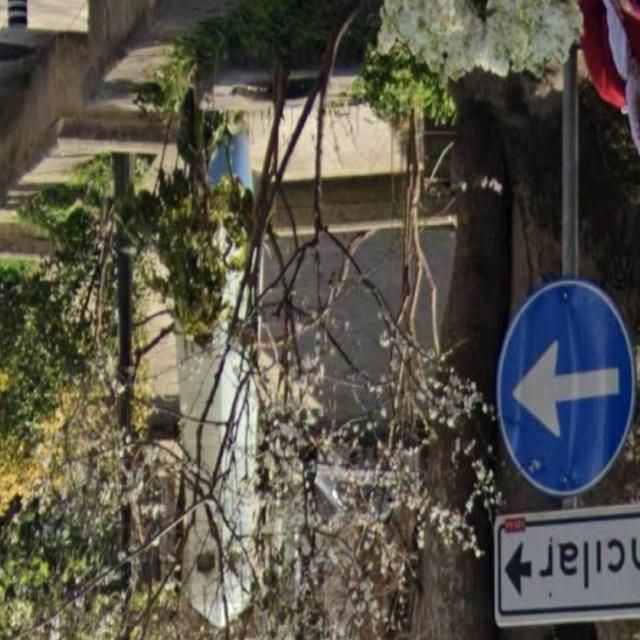Turn Left: (500, 275, 632, 500)
